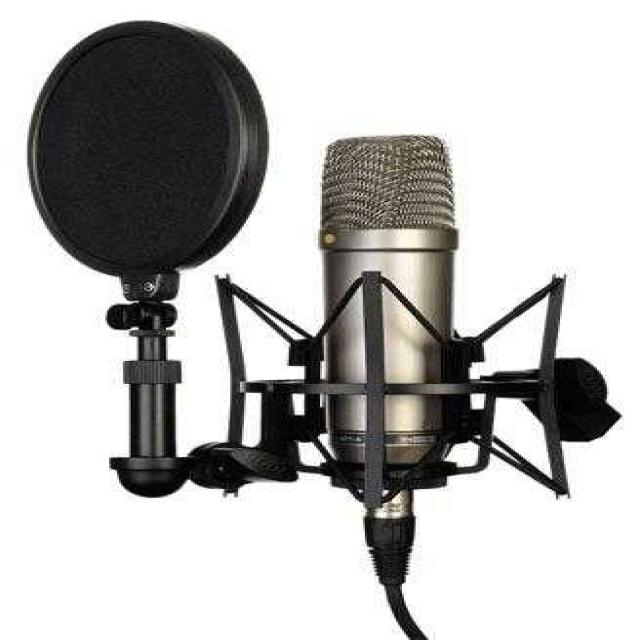microphone: (320, 137, 460, 483)
